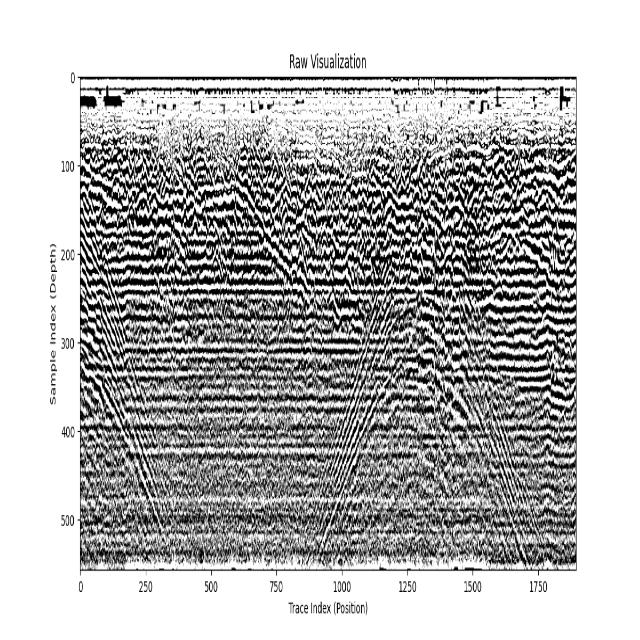anomaly: (303, 244, 562, 566), (80, 178, 179, 564)
